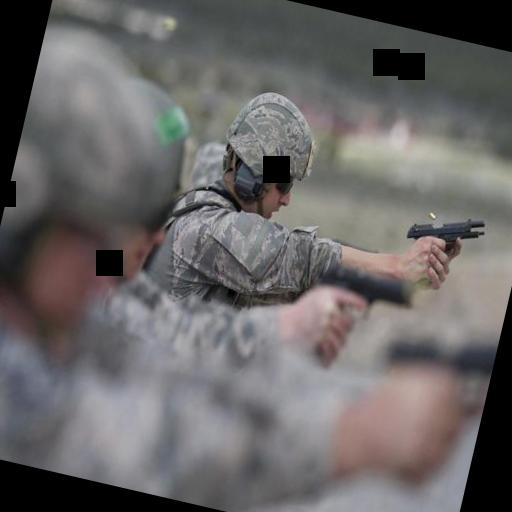Handgun: (316, 252, 420, 314), (400, 200, 488, 267)
